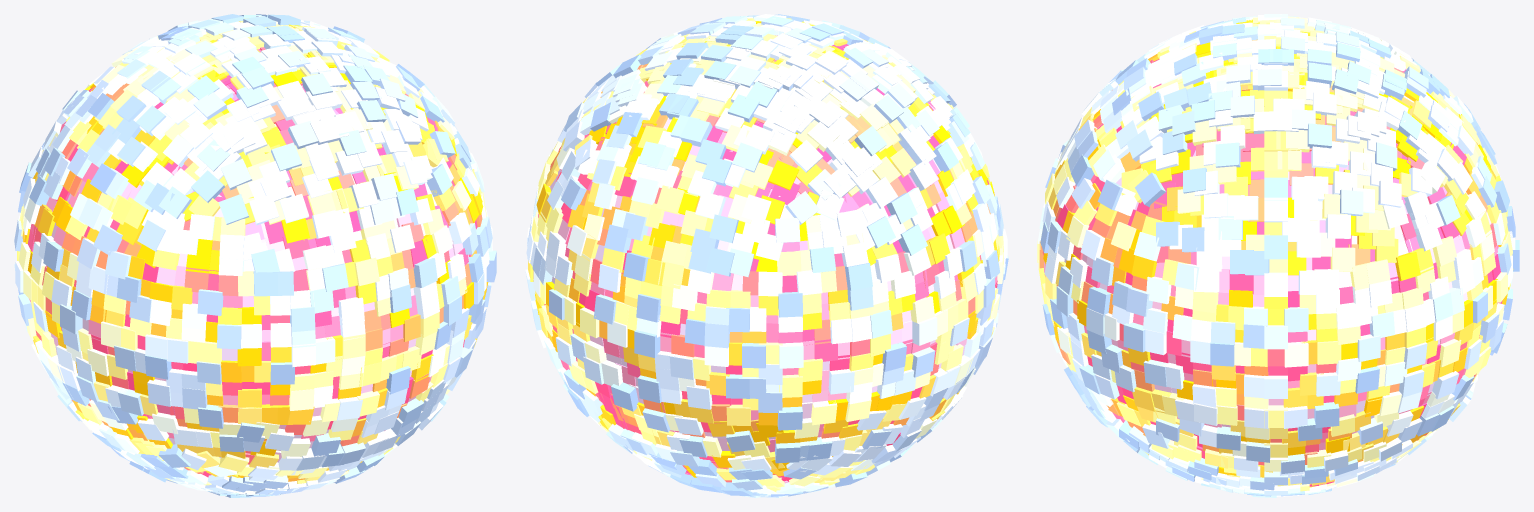
3 views of the same model, side by side, from view 1: azimuth 30°, elevation 25°; view 2: azimuth 150°, elevation 25°; view 3: azimuth 270°, elevation 25° (orthographic).
Parts seen in each view (by area): view 1: 物件_1287, 物件_415, 物件_787, 物件_535, 物件_615, 物件_1071, 物件_1207, 物件_467, 物件_719, 物件_975, 物件_555, 物件_447 (+37 smaller); view 2: 物件_1458, 物件_465, 物件_249, 物件_1481, 物件_549, 物件_161, 物件_493, 物件_973, 物件_593, 物件_41, 物件_643, 物件_601 (+48 smaller); view 3: 物件_2819, 物件_2449, 物件_2683, 物件_2439, 物件_2696, 物件_2665, 物件_2799, 物件_2810, 物件_2881, 物件_2767, 物件_2772, 物件_2611 (+42 smaller).
Part boxes in pixels (x1,y1,x2,y2): 物件_1287: [338, 297, 364, 324]; 物件_415: [197, 289, 223, 315]; 物件_787: [249, 194, 279, 225]; 物件_535: [191, 170, 224, 202]; 物件_615: [218, 194, 248, 224]; 物件_1071: [271, 142, 302, 171]; 物件_1207: [312, 210, 340, 238]; 物件_467: [217, 324, 241, 349]; 物件_719: [221, 158, 252, 190]; 物件_975: [279, 194, 308, 223]; 物件_555: [219, 234, 244, 259]; 物件_447: [188, 214, 214, 240]; 物件_1458: [680, 117, 712, 146]; 物件_465: [779, 342, 803, 368]; 物件_249: [845, 263, 872, 290]; 物件_1481: [634, 330, 660, 357]; 物件_549: [785, 191, 819, 224]; 物件_161: [874, 254, 901, 282]; 物件_493: [778, 292, 802, 317]; 物件_973: [709, 214, 738, 243]; 物件_593: [775, 218, 800, 242]; 物件_41: [912, 316, 937, 345]; 物件_643: [789, 140, 822, 172]; 物件_601: [758, 271, 782, 296]; 物件_2819: [1298, 270, 1323, 294]; 物件_2449: [1215, 142, 1240, 167]; 物件_2683: [1325, 214, 1350, 238]; 物件_2439: [1135, 172, 1165, 207]; 物件_2696: [1264, 197, 1287, 222]; 物件_2665: [1234, 196, 1258, 220]; 物件_2799: [1194, 268, 1219, 292]; 物件_2810: [1314, 402, 1339, 428]; 物件_2881: [1284, 341, 1308, 367]; 物件_2767: [1330, 247, 1355, 271]; 物件_2772: [1264, 235, 1287, 259]; 物件_2611: [1339, 189, 1363, 216].
Bounding box in the file's own units: 22.56 × 22.76 × 22.62.
